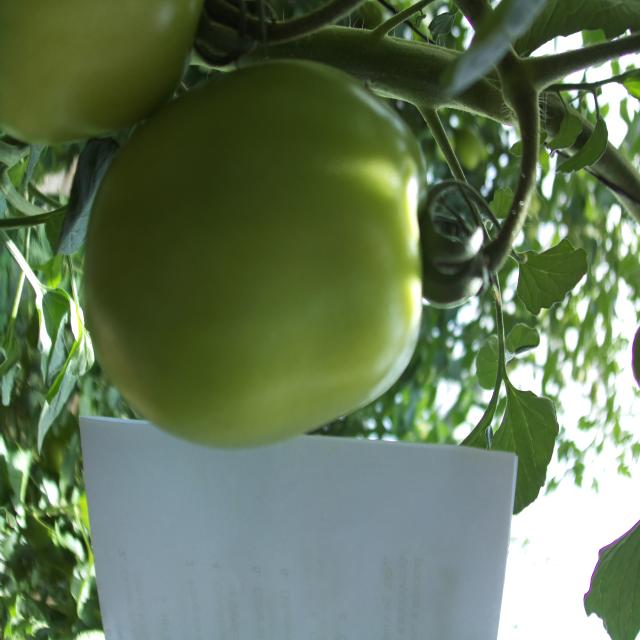unripe tomato: (80, 57, 488, 459)
